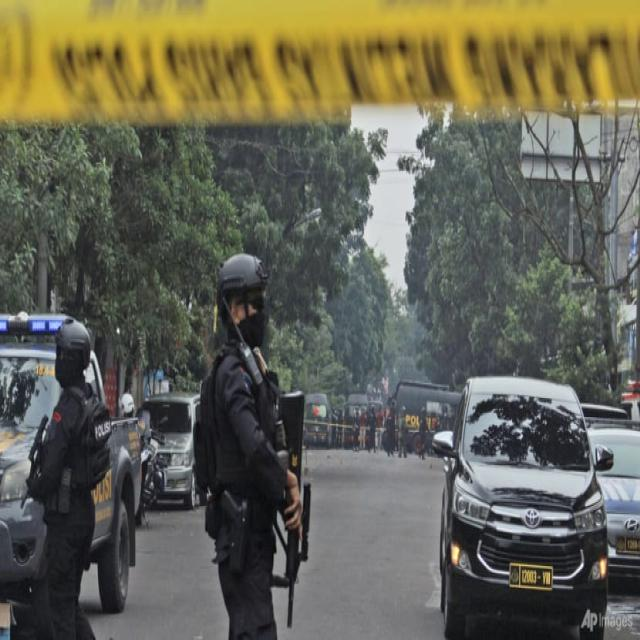police: (179, 227, 301, 640), (28, 301, 132, 640)
